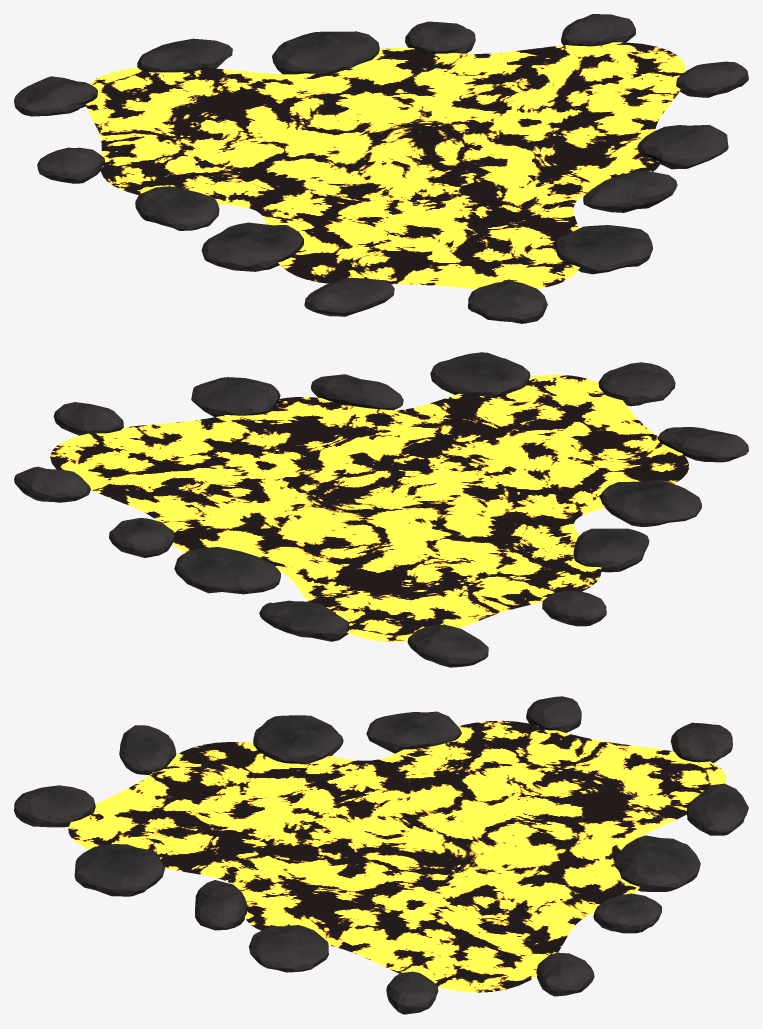
File: dg_poca_lava.glb
3 renders of one model, top to bottom at view 1: azimuth 30°, elevation 25°; view 2: azimuth 150°, elevation 25°; view 3: azimuth 270°, elevation 25°, orthographic. The views are drawn at different scales.
Visible parts, largest first — view 1: dg_poca_lava_tronco; view 2: dg_poca_lava_tronco; view 3: dg_poca_lava_tronco.
Boxes of the visible parts, x1,y1,x2,y2 form: dg_poca_lava_tronco: [14, 14, 748, 323]; dg_poca_lava_tronco: [14, 352, 748, 667]; dg_poca_lava_tronco: [14, 696, 748, 1014].
Size of the model in its own units: 4.15 by 0.1931 by 4.17.
1 material, 1 textured.
